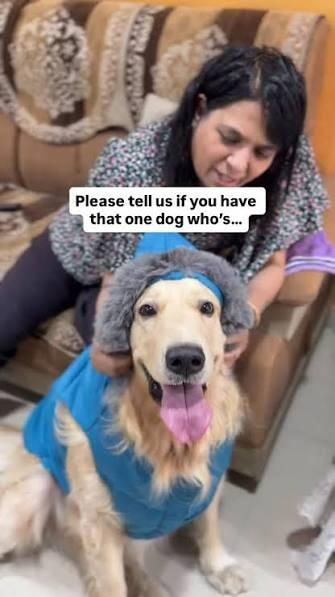adult_dog: (0, 249, 256, 597)
non-dog: (1, 43, 330, 379)
